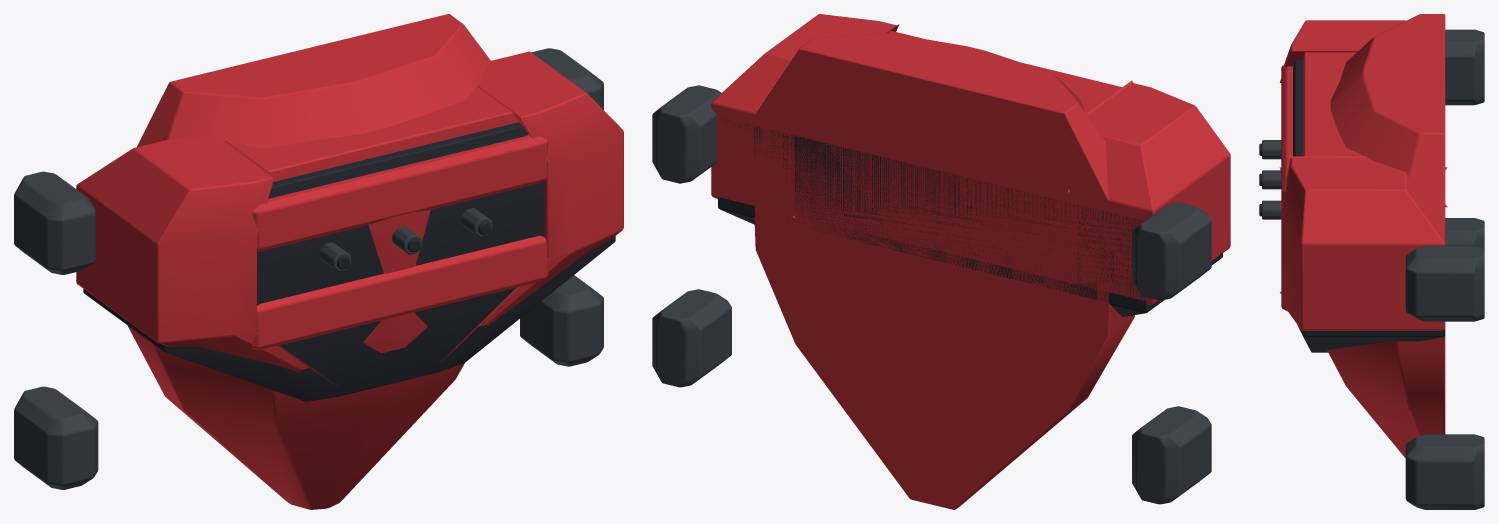
The model's file is LowerArmBack_Set07_Salvo.fbx.
3 views of the same model, side by side, from view 1: azimuth 30°, elevation 25°; view 2: azimuth 150°, elevation 25°; view 3: azimuth 270°, elevation 25° (orthographic). The views are drawn at different scales.
Parts seen in each view (by area): view 1: LowerArmBack_Set07_Salvo; view 2: LowerArmBack_Set07_Salvo; view 3: LowerArmBack_Set07_Salvo.
Boxes of the visible parts, x1,y1,x2,y2 form: LowerArmBack_Set07_Salvo: (14,14,623,509); LowerArmBack_Set07_Salvo: (652,14,1230,509); LowerArmBack_Set07_Salvo: (1259,14,1484,509).
Bounding box in the file's own units: 0.43 × 0.33 × 0.1715.
